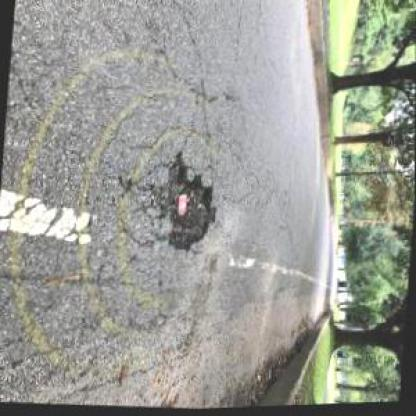pothole: (154, 151, 223, 259)
